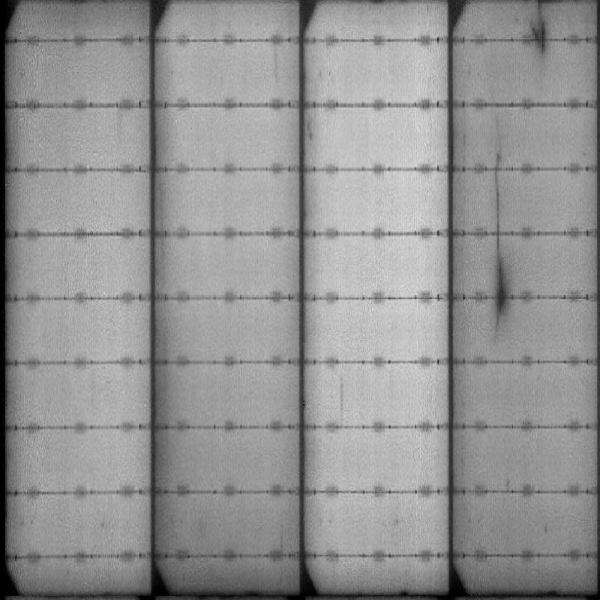scratch: (493, 236, 507, 327), (488, 153, 502, 231), (531, 3, 550, 59)
